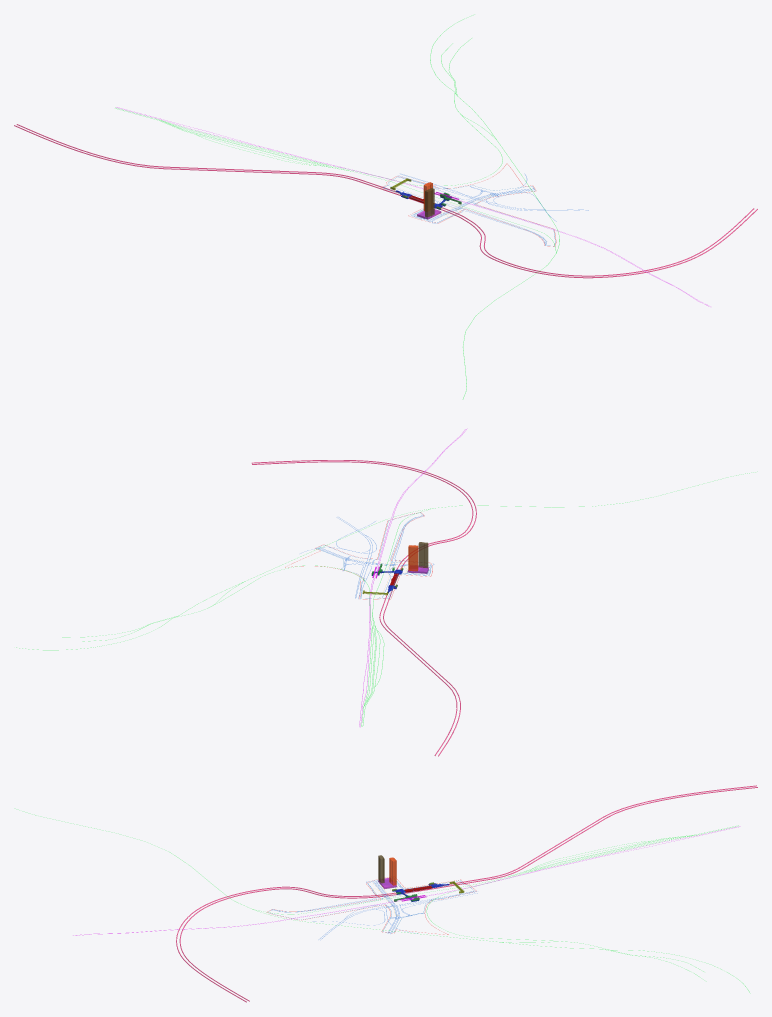
The model's file is MODEL_LAYERS.FBX.
3 renders of one model, top to bottom at view 1: azimuth 30°, elevation 25°; view 2: azimuth 150°, elevation 25°; view 3: azimuth 270°, elevation 25°, orthographic. The views are drawn at different scales.
Parts seen in each view (by area): view 1: L_Subway_Shelepiha, L_Traffic_RailRZD; view 2: L_Subway_Shelepiha, L_Traffic_RailRZD, L_Traffic_Car; view 3: L_Subway_Shelepiha, L_Traffic_RailRZD, L_Traffic_Car.
Boxes of the visible parts, x1,y1,x2,y2 form: L_Subway_Shelepiha: (14,124,757,278); L_Traffic_RailRZD: (116,19,559,398); L_Subway_Shelepiha: (251,460,476,756); L_Traffic_RailRZD: (16,473,749,726); L_Traffic_Car: (307,515,433,598); L_Subway_Shelepiha: (176,785,757,1002); L_Traffic_RailRZD: (35,815,749,992); L_Traffic_Car: (274,880,477,938).
Bounding box in the file's own units: 2698 × 162 × 3917.
